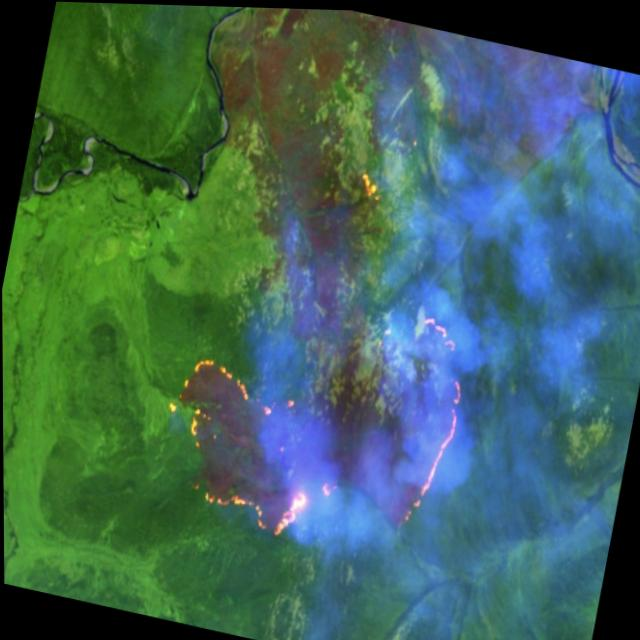fire: (146, 338, 333, 540), (372, 298, 485, 545), (350, 162, 390, 207)
